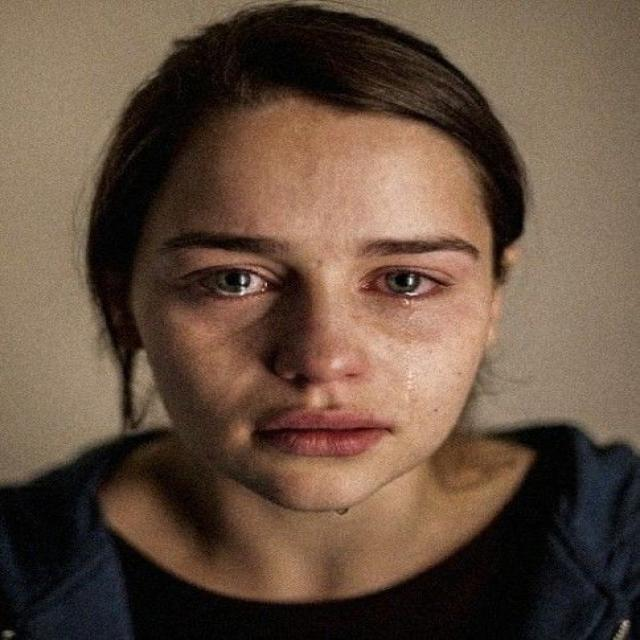sem_oculos: (109, 192, 536, 328)
